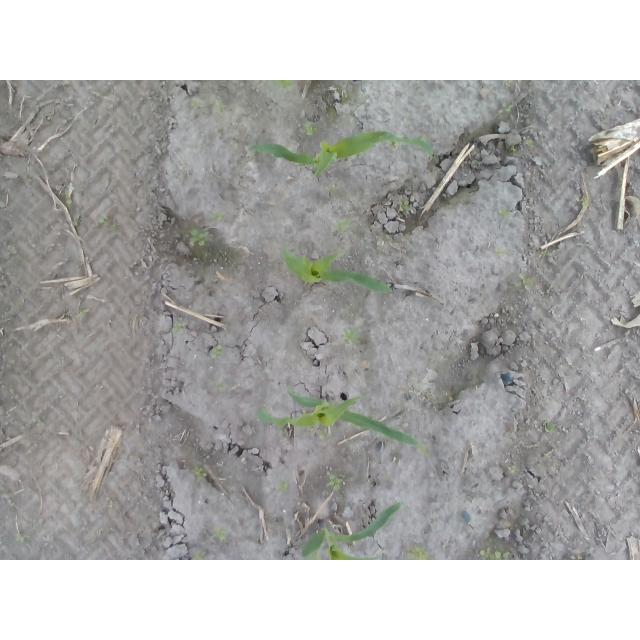Maize: (257, 387, 422, 448), (246, 130, 434, 178), (302, 501, 407, 560), (281, 244, 394, 294)
Weeds: (477, 547, 512, 558), (341, 327, 360, 347), (189, 229, 209, 246), (331, 219, 351, 233), (406, 546, 429, 558), (327, 474, 343, 491), (519, 273, 534, 291), (97, 217, 115, 231), (193, 466, 208, 482), (173, 319, 187, 333), (499, 102, 513, 115), (212, 527, 225, 541), (273, 80, 293, 88), (213, 102, 226, 114), (75, 309, 89, 320), (305, 123, 315, 138), (544, 422, 559, 432), (315, 429, 329, 439), (190, 98, 205, 107), (211, 347, 223, 358), (398, 202, 410, 212), (212, 384, 225, 393), (212, 211, 225, 220), (279, 481, 289, 492), (525, 137, 535, 148), (507, 465, 518, 475), (65, 198, 74, 210), (499, 210, 511, 218), (16, 534, 28, 542), (503, 80, 513, 89), (583, 197, 589, 211), (74, 219, 81, 228), (511, 144, 517, 154), (327, 186, 337, 191), (498, 250, 507, 255)
